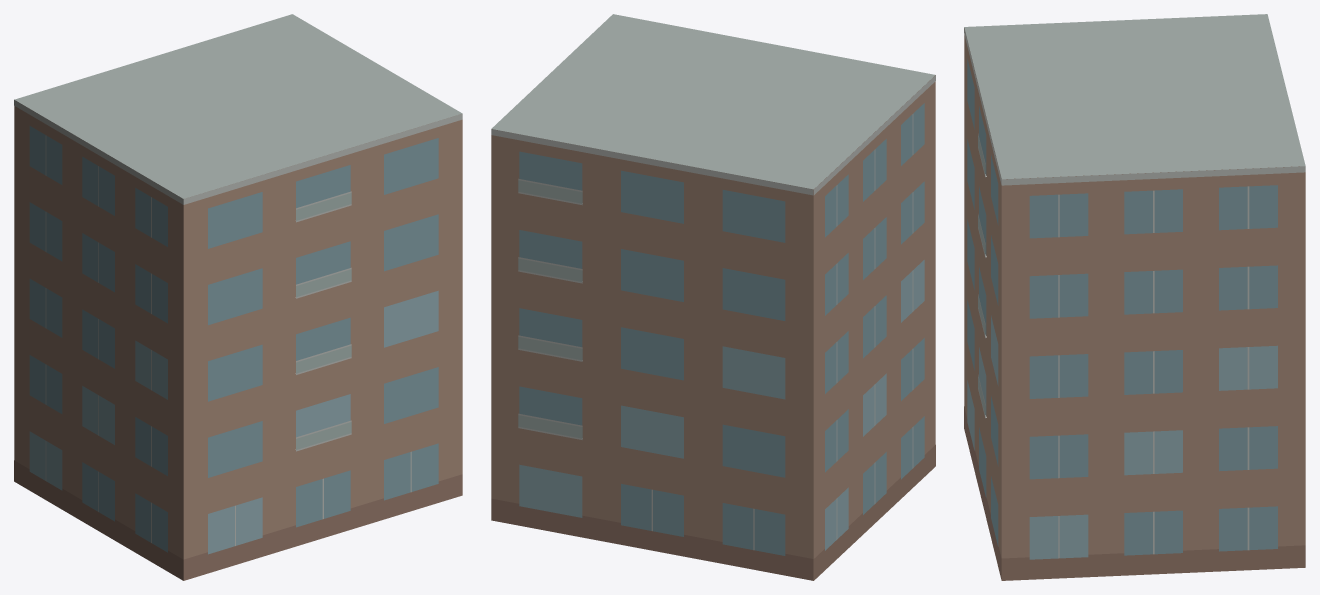
The model's file is survey-upis-32666923.glb.
3 views of the same model, side by side, from view 1: azimuth 30°, elevation 25°; view 2: azimuth 150°, elevation 25°; view 3: azimuth 270°, elevation 25° (orthographic). The views are drawn at different scales.
Visible parts, largest first — view 1: survey-upis-32666923.tmp; view 2: survey-upis-32666923.tmp; view 3: survey-upis-32666923.tmp.
Part boxes in pixels (x1,y1,x2,y2): survey-upis-32666923.tmp: (14, 14, 462, 580); survey-upis-32666923.tmp: (491, 14, 935, 580); survey-upis-32666923.tmp: (964, 14, 1305, 580).
Bounding box in the file's own units: 13.78 × 15.6 × 12.03.
